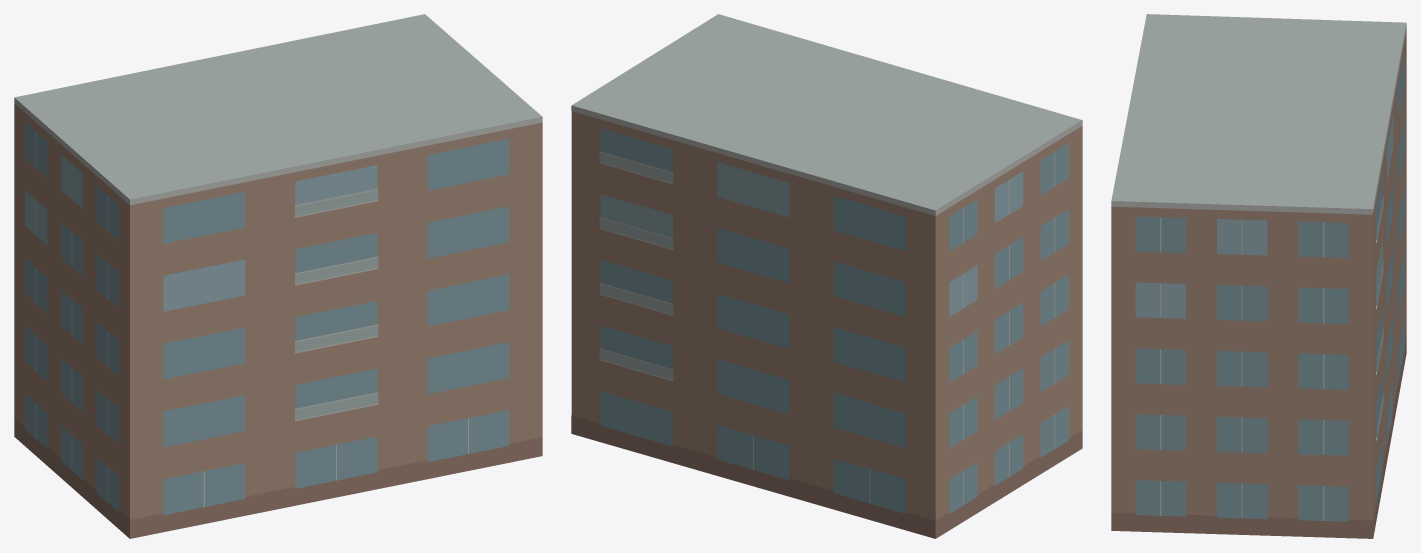
Rendered from survey-upis-32832485.glb.
3 renders of one model, left to right at view 1: azimuth 30°, elevation 25°; view 2: azimuth 150°, elevation 25°; view 3: azimuth 270°, elevation 25°, orthographic. The views are drawn at different scales.
Parts seen in each view (by area): view 1: survey-upis-32832485.tmp; view 2: survey-upis-32832485.tmp; view 3: survey-upis-32832485.tmp.
Part boxes in pixels (x1=…): survey-upis-32832485.tmp: x1=14, y1=14, x2=542, y2=538; survey-upis-32832485.tmp: x1=571, y1=14, x2=1082, y2=538; survey-upis-32832485.tmp: x1=1111, y1=14, x2=1406, y2=538.
Size of the model in its own units: 18.42 by 14.5 by 11.78.
